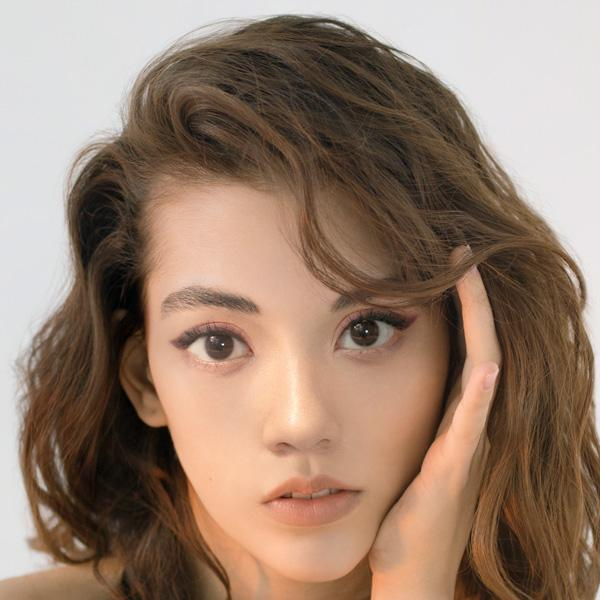Eyes: (324, 301, 419, 367), (165, 315, 259, 376)
